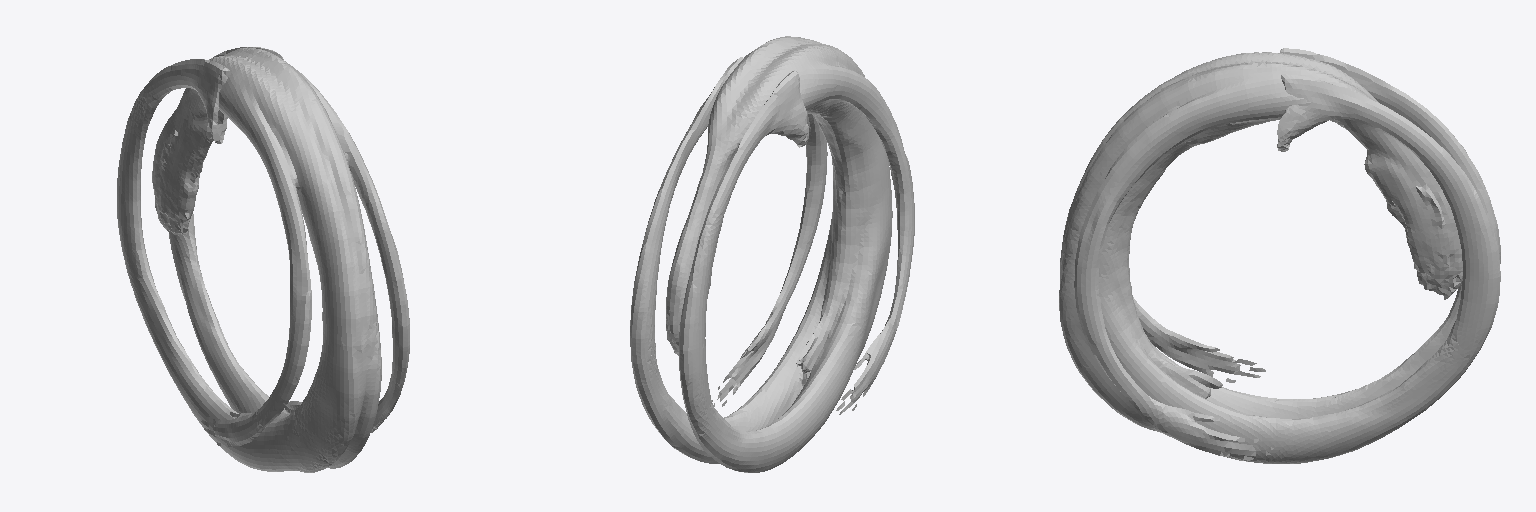
File: theRings02_low.obj
3 renders of one model, left to right at view 1: azimuth 30°, elevation 25°; view 2: azimuth 150°, elevation 25°; view 3: azimuth 270°, elevation 25°, orthographic.
Size of the model in its own units: 9.69 by 28.42 by 28.53.